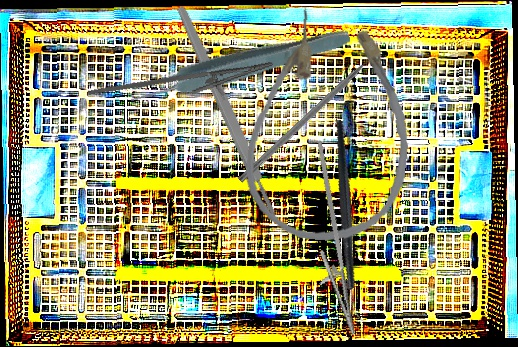Cannula: (239, 3, 422, 249)
Chopper: (284, 119, 417, 322)
Hook Surgical: (237, 46, 386, 185)
Needle Holder: (280, 142, 379, 340), (87, 39, 278, 131)
Scalpel Handle: (173, 4, 281, 220)
Tissue Forceps: (125, 21, 354, 110)
